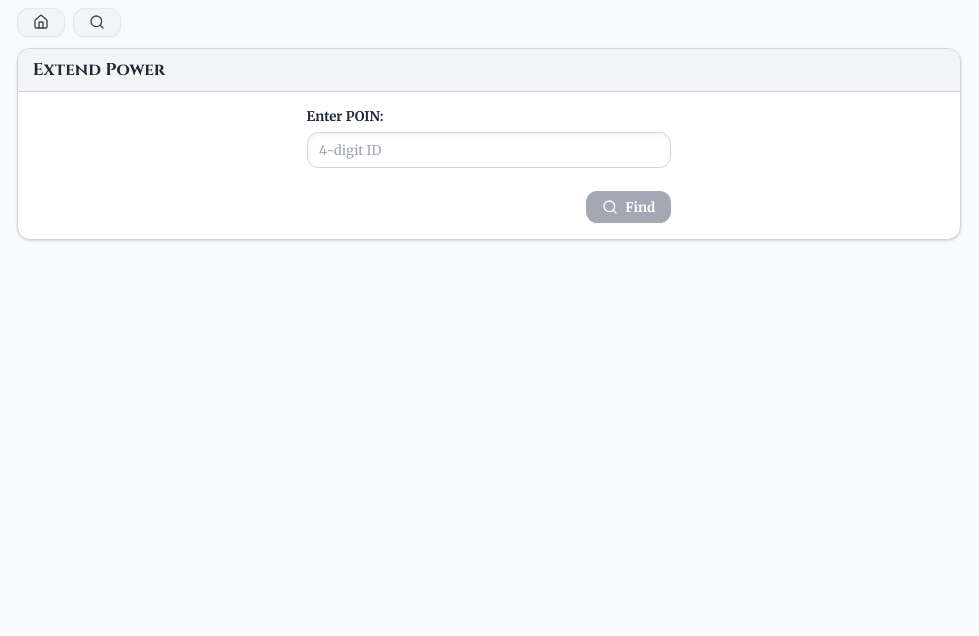
Test case: ExtendPower Page › searches and finds power
Type "6001" into the field with placeholder "4-digit ID" at (489, 150), box [307,132,671,168]
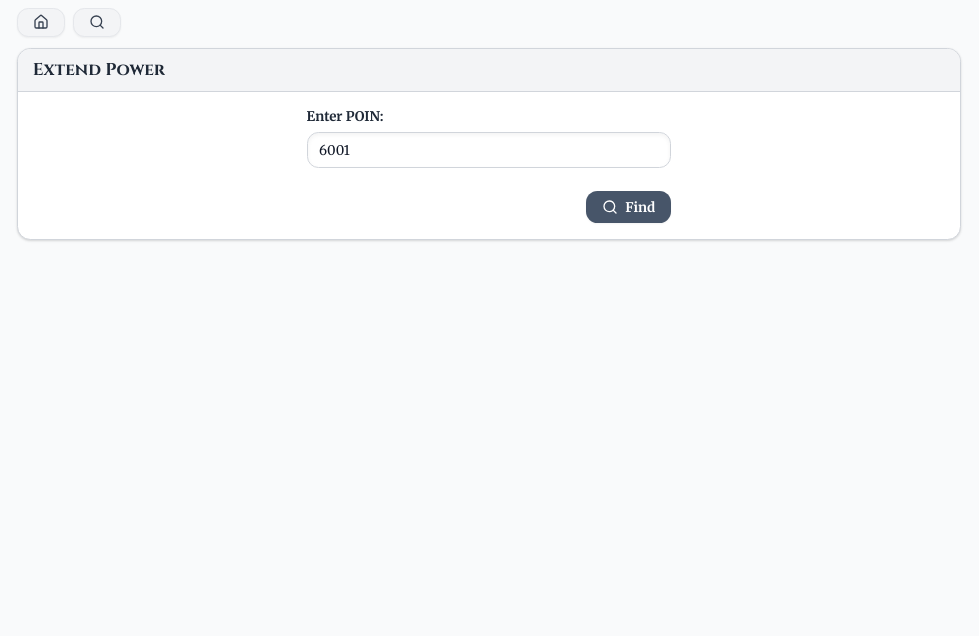
Click the button "Find" at (628, 207), box [586,191,671,223]
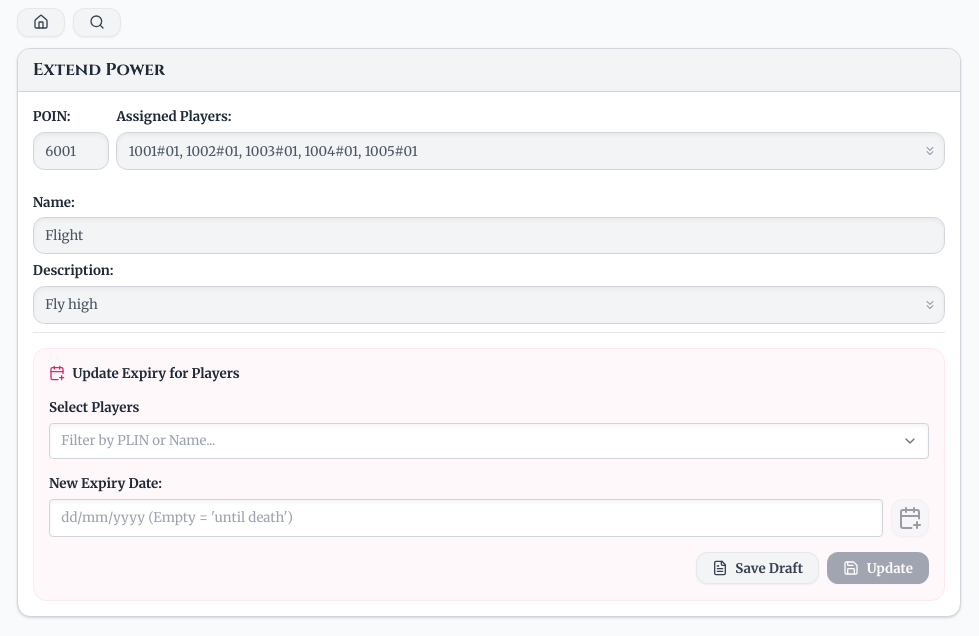
Expected: the field showing "Flight" below "Name" is shown, [33,218,945,254]
